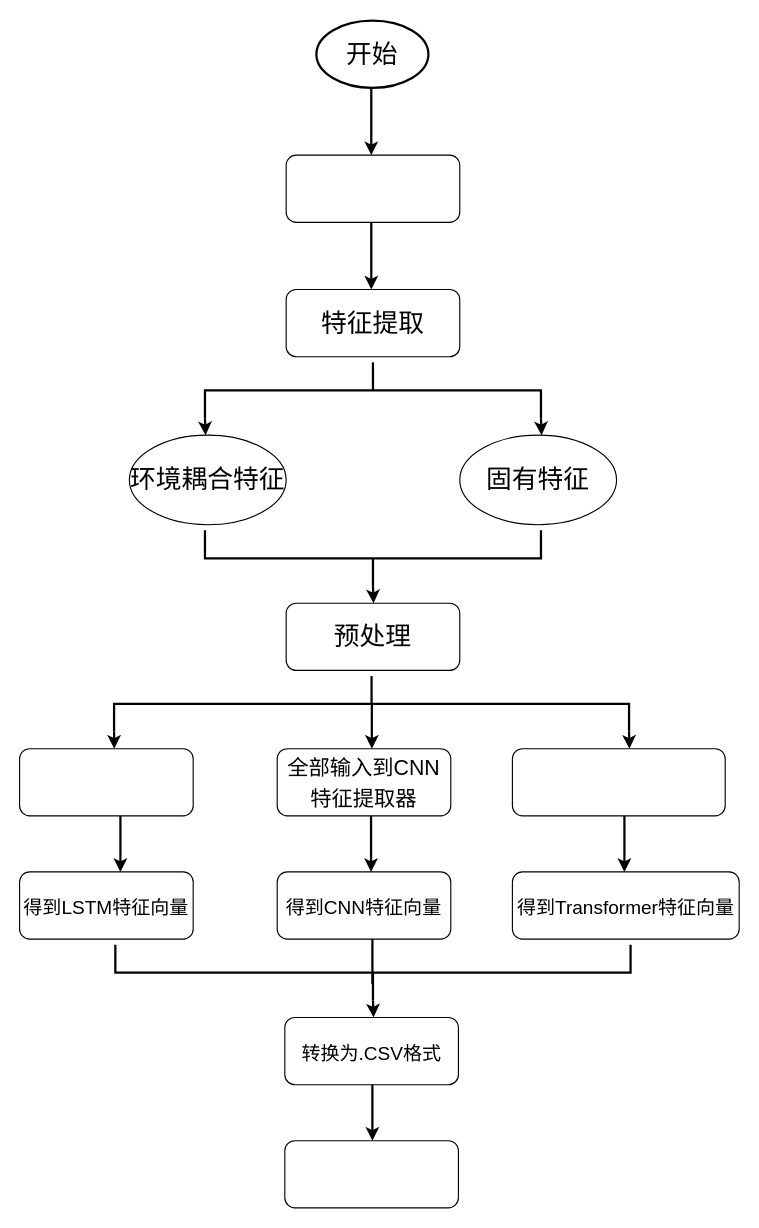
The diagram is 759 pixels wide and 1228 high, and some of its shapes have lost their labels. The centre of each missing label's shape, as x and y in pixels:
全部输入到LSTM特征提取器: the point at 105,782
全部输入到Transformer特征提取器: the point at 618,782
声音片段输入: the point at 372,188
存入数据库: the point at 371,1174
